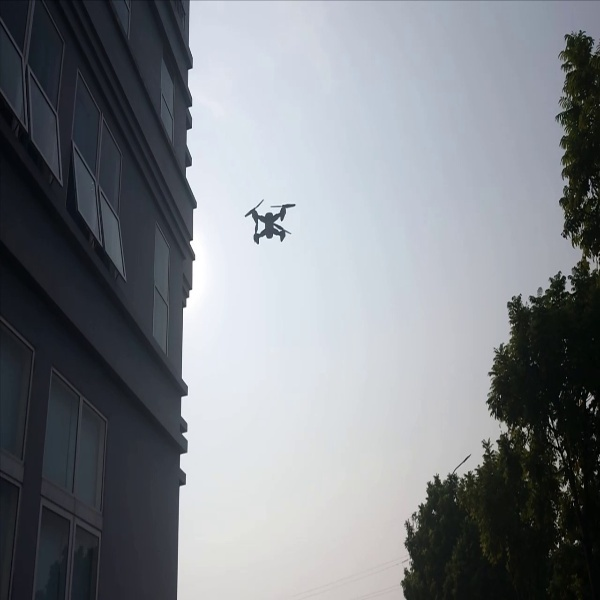drone: (234, 193, 302, 250)
